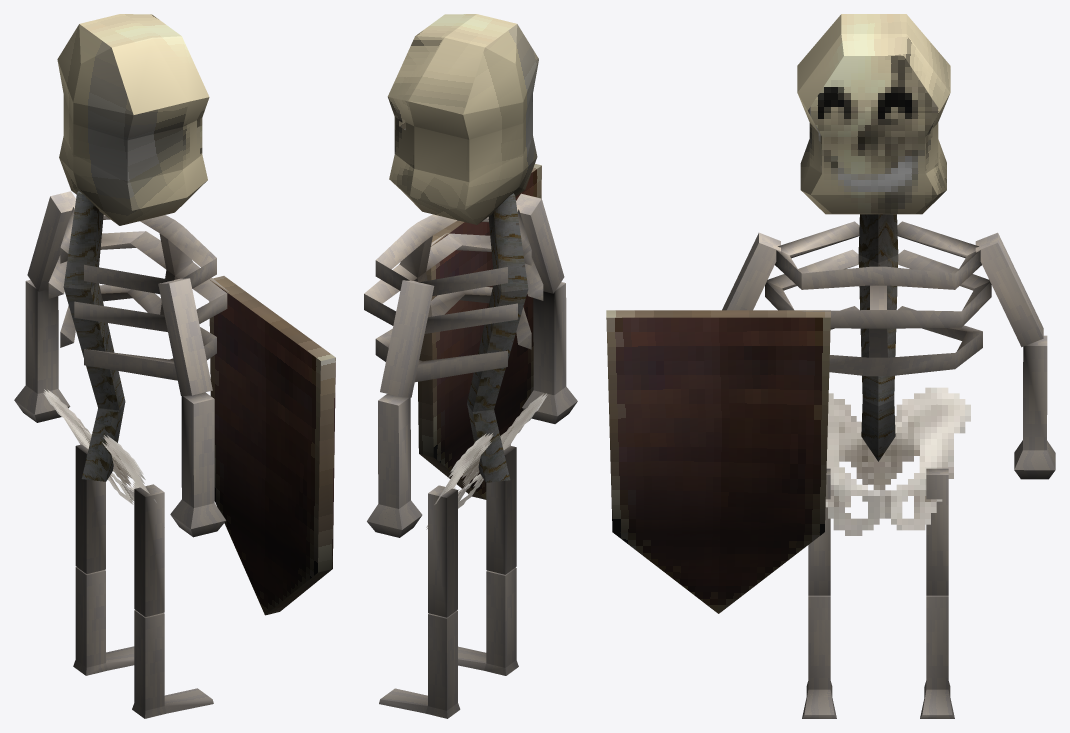
Rendered from Assi.glb.
3 views of the same model, side by side, from view 1: azimuth 30°, elevation 25°; view 2: azimuth 150°, elevation 25°; view 3: azimuth 270°, elevation 25° (orthographic).
Visible parts, largest first — view 1: Shield, Head, Chest, Spine, LowerArm_r, LowerArm_l, LowerLeg_r, UpperLeg_r, UpperArm_r, LowerLeg_l, UpperLeg_l, UpperArm_l (+1 smaller); view 2: Head, Chest, Shield, Spine, LowerArm_l, LowerArm_r, LowerLeg_l, UpperArm_l, UpperLeg_l, LowerLeg_r, UpperLeg_r, UpperArm_r (+1 smaller); view 3: Shield, Head, Chest, Pelvis, Spine, LowerArm_l, UpperArm_l, LowerLeg_l, LowerLeg_r, UpperLeg_l, UpperArm_r, UpperLeg_r.
Boxes of the visible parts, x1=… form: Shield: x1=209, y1=276, x2=335, y2=615; Head: x1=57, y1=14, x2=209, y2=225; Chest: x1=48, y1=207, x2=228, y2=380; Spine: x1=63, y1=191, x2=125, y2=481; LowerArm_r: x1=170, y1=392, x2=226, y2=537; LowerArm_l: x1=14, y1=280, x2=70, y2=422; LowerLeg_r: x1=132, y1=610, x2=213, y2=718; UpperLeg_r: x1=134, y1=484, x2=164, y2=616; UpperArm_r: x1=158, y1=278, x2=212, y2=395; LowerLeg_l: x1=73, y1=567, x2=134, y2=675; UpperLeg_l: x1=75, y1=444, x2=105, y2=573; UpperArm_l: x1=27, y1=191, x2=75, y2=291; Head: x1=387, y1=14, x2=538, y2=224; Chest: x1=364, y1=209, x2=543, y2=382; Shield: x1=418, y1=163, x2=541, y2=499; Spine: x1=467, y1=193, x2=528, y2=482; LowerArm_l: x1=367, y1=394, x2=422, y2=537; LowerArm_r: x1=522, y1=282, x2=577, y2=423; LowerLeg_l: x1=379, y1=610, x2=460, y2=718; UpperArm_l: x1=380, y1=280, x2=434, y2=397; UpperLeg_l: x1=428, y1=485, x2=457, y2=617; LowerLeg_r: x1=458, y1=567, x2=518, y2=675; UpperLeg_r: x1=486, y1=445, x2=516, y2=574; UpperArm_r: x1=516, y1=193, x2=564, y2=293; Shield: x1=606, y1=310, x2=830, y2=613; Head: x1=797, y1=14, x2=950, y2=214; Chest: x1=765, y1=221, x2=991, y2=376; Pelvis: x1=825, y1=387, x2=970, y2=535; Spine: x1=858, y1=214, x2=898, y2=461; LowerArm_l: x1=1014, y1=335, x2=1055, y2=479; UpperArm_l: x1=975, y1=232, x2=1043, y2=347; LowerLeg_l: x1=920, y1=595, x2=954, y2=718; LowerLeg_r: x1=802, y1=595, x2=836, y2=718; UpperLeg_l: x1=926, y1=468, x2=948, y2=595; UpperArm_r: x1=722, y1=232, x2=780, y2=310; UpperLeg_r: x1=808, y1=468, x2=830, y2=595.
Size of the model in its own units: 0.3393 by 1.54 by 0.9455.
Materials: 5 (5 with a texture image).
